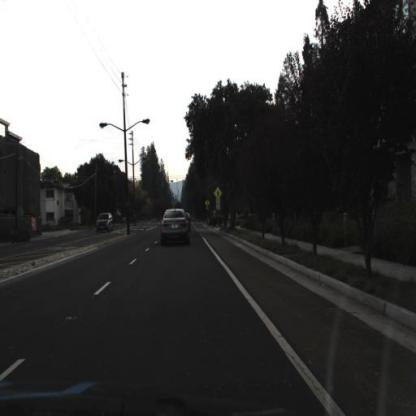car: (160, 205, 195, 250), (96, 212, 117, 236), (95, 211, 113, 236)
